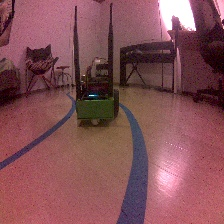rob: (74, 62, 120, 126)
